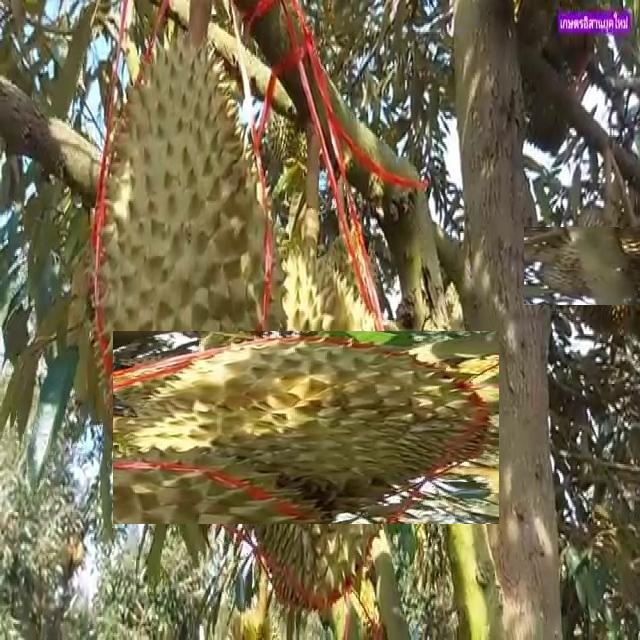durian: (82, 21, 284, 488), (161, 282, 451, 572), (542, 208, 640, 322)
